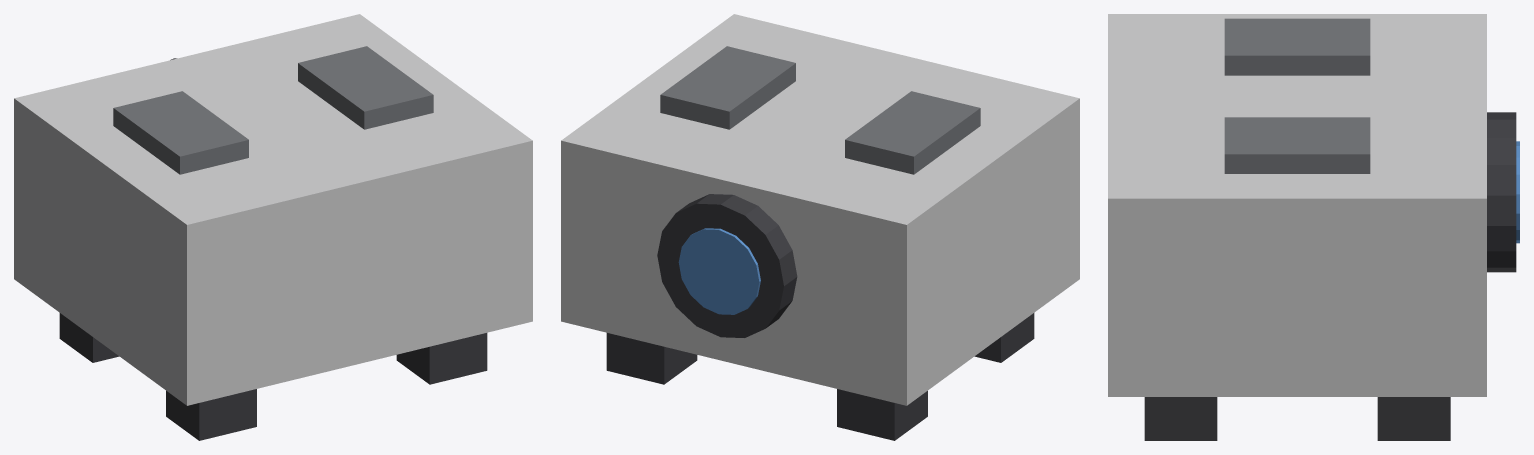
Rendered from eld_projetor2.glb.
3 renders of one model, left to right at view 1: azimuth 30°, elevation 25°; view 2: azimuth 150°, elevation 25°; view 3: azimuth 270°, elevation 25°, orthographic. The views are drawn at different scales.
Parts seen in each view (by area): view 1: ELD_PROJETOR2_v01; view 2: ELD_PROJETOR2_v01; view 3: ELD_PROJETOR2_v01.
Part boxes in pixels (x1,y1,x2,y2): ELD_PROJETOR2_v01: [14, 14, 532, 440]; ELD_PROJETOR2_v01: [561, 14, 1079, 440]; ELD_PROJETOR2_v01: [1108, 14, 1519, 440].
Size of the model in its own units: 0.3 by 0.21 by 0.2825.
